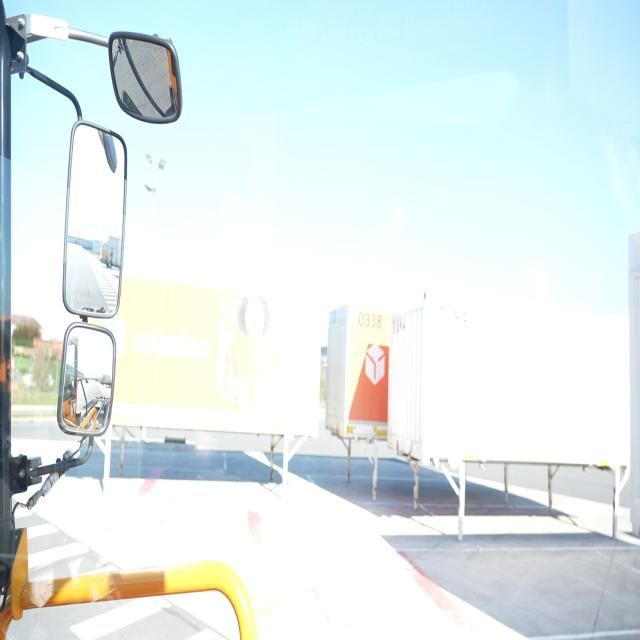Code: (354, 308, 384, 335)
